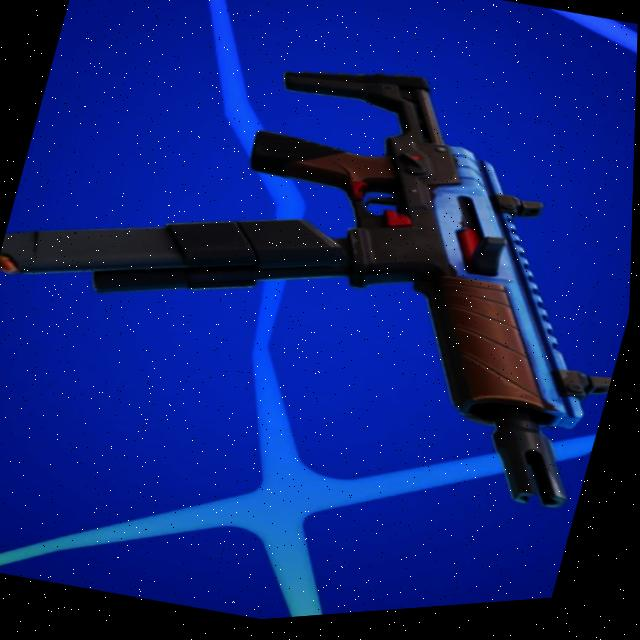firearm: (0, 0, 640, 558)
